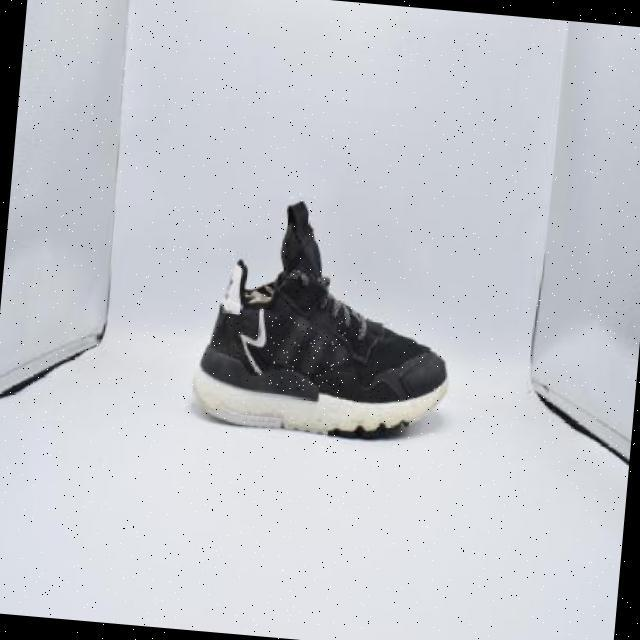Adidas: (264, 315, 349, 395)
